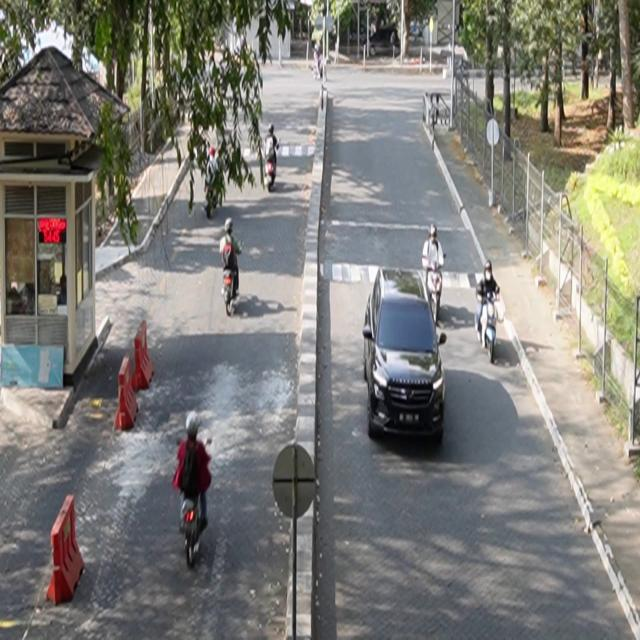car: (363, 267, 448, 443)
